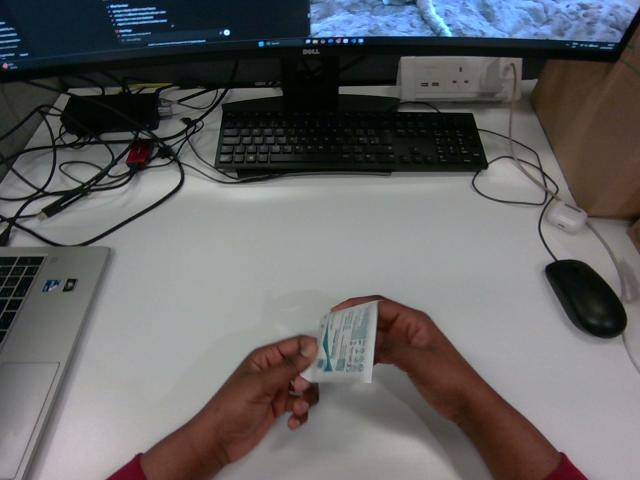gauze: (301, 301, 377, 382)
